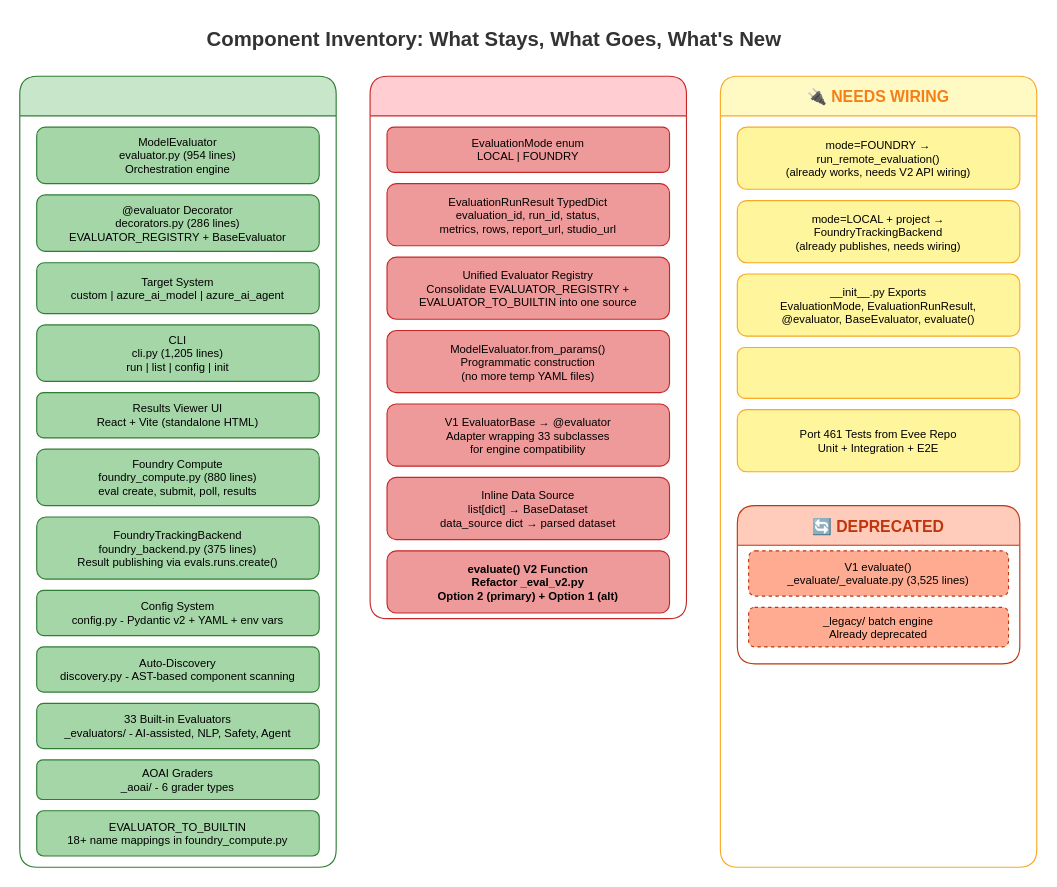
Image size: 1057x887. Some labels were removed from this diagram. The shapes that lost their labels are listed below. From the top down, each one's box as (x1, y1, x2, y2) in pixels, then its label:
(369, 75, 686, 619): 🔨 NEEDS BUILDING
(736, 346, 1020, 398): CLI --mode, --project-endpoint flags for V2 support
(19, 75, 336, 867): ✅ STAYS (Evee Engine)
